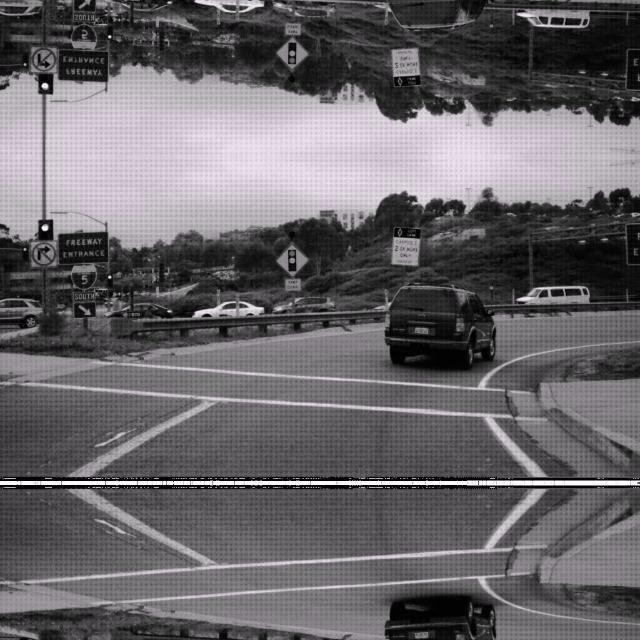signalAhead: (275, 241, 309, 275), (275, 37, 309, 71)
